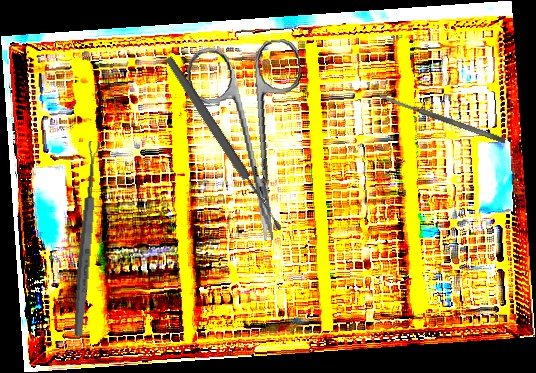Iris Scissors: (184, 37, 322, 248)
Spatula Surgical: (378, 92, 507, 145)
Surgical Spoon: (162, 53, 286, 235), (71, 140, 102, 337)
